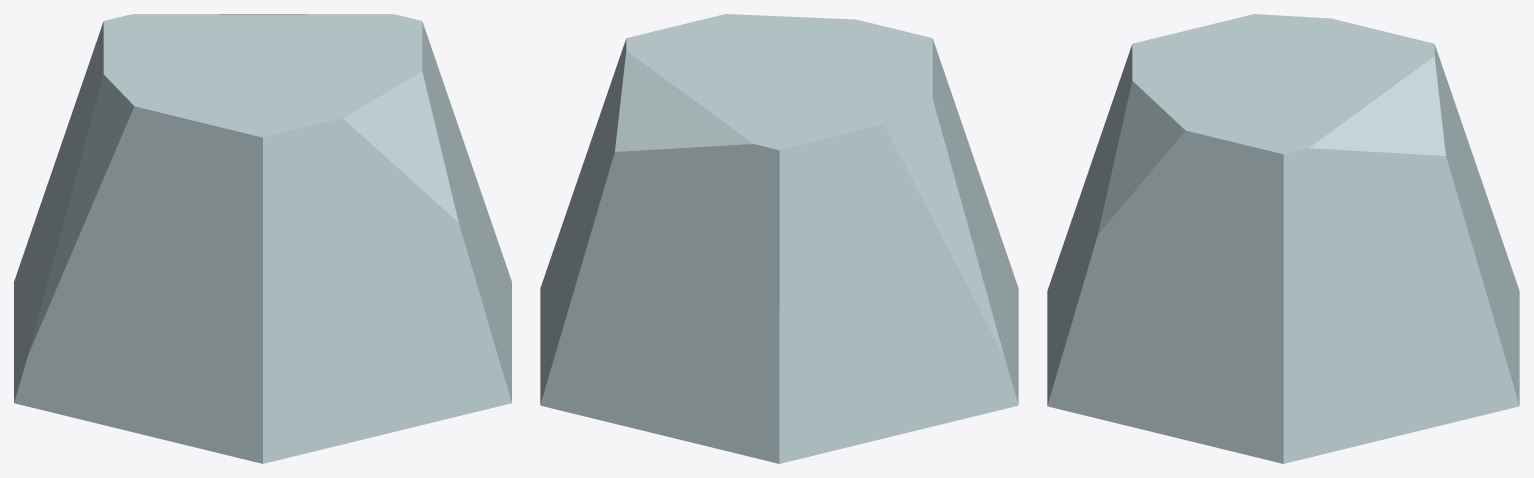
The model's file is stone_smallD.gltf.
The picture shows the model from 3 angles, left to right: view 1: azimuth 30°, elevation 25°; view 2: azimuth 150°, elevation 25°; view 3: azimuth 270°, elevation 25°; orthographic projection. The views are drawn at different scales.
Visible parts, largest first — view 1: stone_smallD; view 2: stone_smallD; view 3: stone_smallD.
Boxes of the visible parts, x1,y1,x2,y2 form: stone_smallD: (14,14,511,463); stone_smallD: (540,14,1018,463); stone_smallD: (1047,14,1519,463).
Size of the model in its own units: 0.4257 by 0.2309 by 0.3687.
